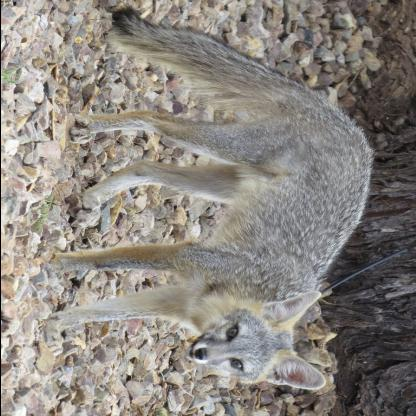zorro: (42, 0, 380, 396)
